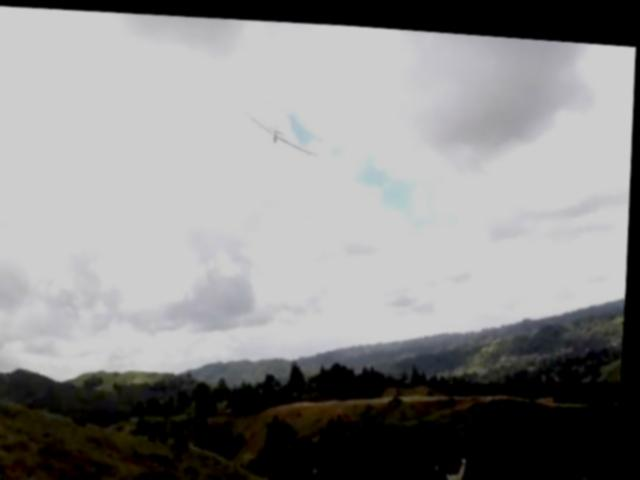iha: (241, 99, 325, 159)
